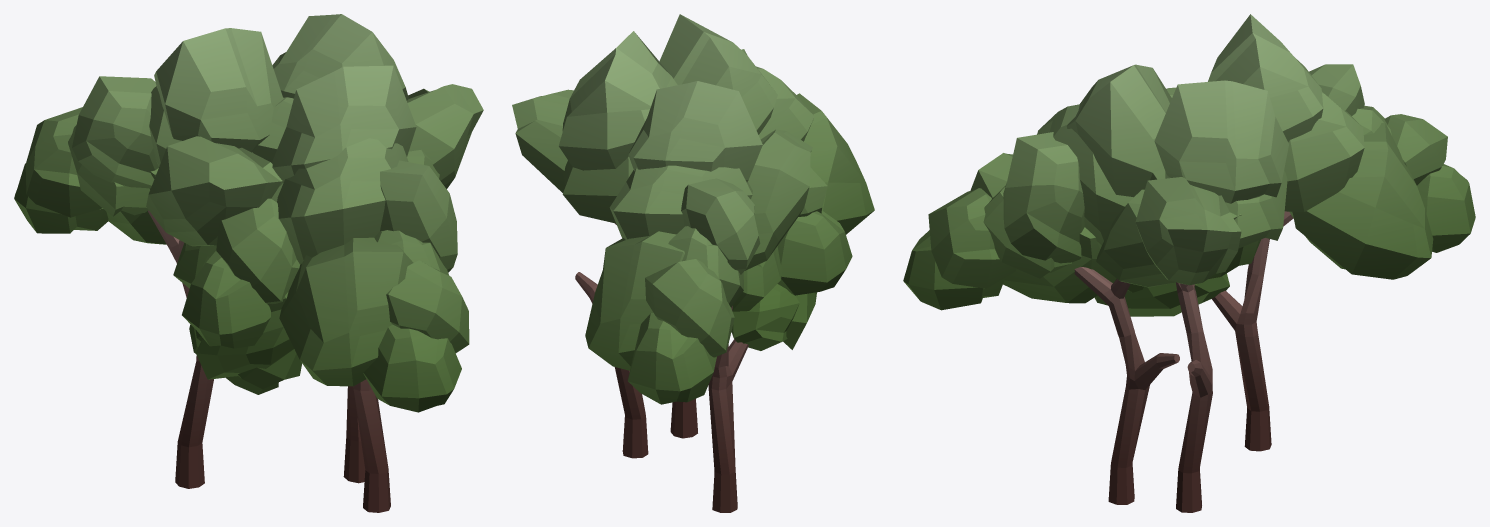
Rendered from BoardWalkTreeGroup.fbx.
3 views of the same model, side by side, from view 1: azimuth 30°, elevation 25°; view 2: azimuth 150°, elevation 25°; view 3: azimuth 270°, elevation 25° (orthographic). The views are drawn at different scales.
Parts seen in each view (by area): view 1: TreeGroup1; view 2: TreeGroup1; view 3: TreeGroup1.
Part boxes in pixels (left/top/right/bottom): TreeGroup1: left=14, top=14, right=483, bottom=512; TreeGroup1: left=512, top=14, right=874, bottom=512; TreeGroup1: left=903, top=14, right=1475, bottom=512.
Size of the model in its own units: 9.9 by 12.57 by 15.25.
